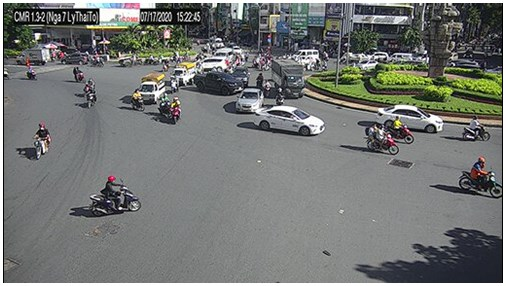xe_ba_gac: (118, 52, 143, 66)
xe_ban_tai: (193, 73, 240, 97)
xe_hoi: (253, 105, 327, 136), (377, 104, 444, 133), (236, 87, 262, 112), (196, 58, 229, 71), (61, 53, 89, 64), (355, 60, 378, 71)
xe_khach: (213, 48, 243, 61), (291, 50, 319, 59), (390, 51, 413, 61)
xe_may: (88, 176, 141, 215), (458, 157, 501, 199), (364, 123, 400, 155), (385, 117, 414, 145), (462, 115, 489, 140), (35, 122, 51, 161), (160, 92, 172, 120), (131, 89, 145, 112), (72, 64, 85, 82), (172, 96, 180, 124), (87, 87, 97, 109), (275, 86, 284, 107), (171, 74, 180, 94), (84, 79, 94, 96), (26, 65, 36, 82), (263, 79, 271, 97), (310, 58, 321, 71), (145, 54, 156, 65), (256, 72, 263, 89), (163, 58, 170, 72)
xe_tai: (271, 60, 304, 100), (16, 48, 50, 65)
